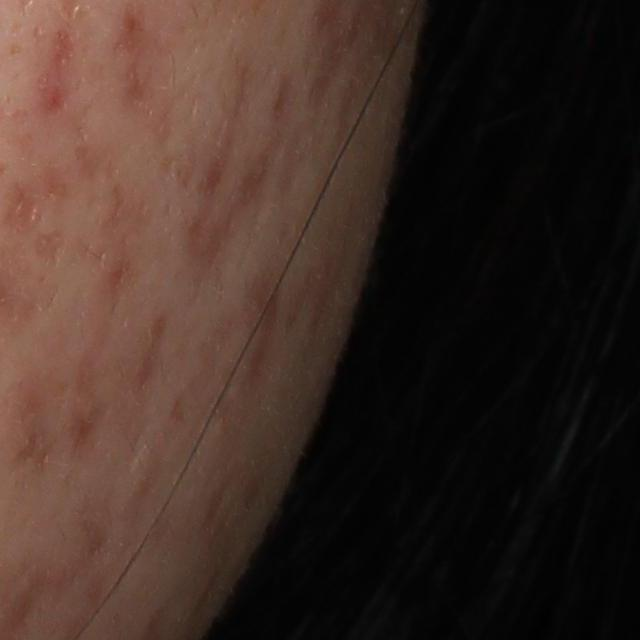atrophic_scar: (32, 229, 68, 270)
